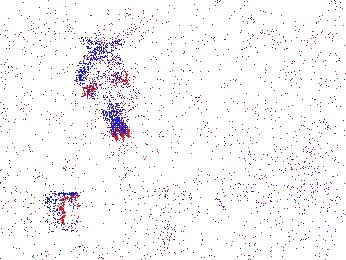flame jellyfish: (74, 48, 131, 138), (159, 179, 227, 241), (1, 167, 81, 216)
